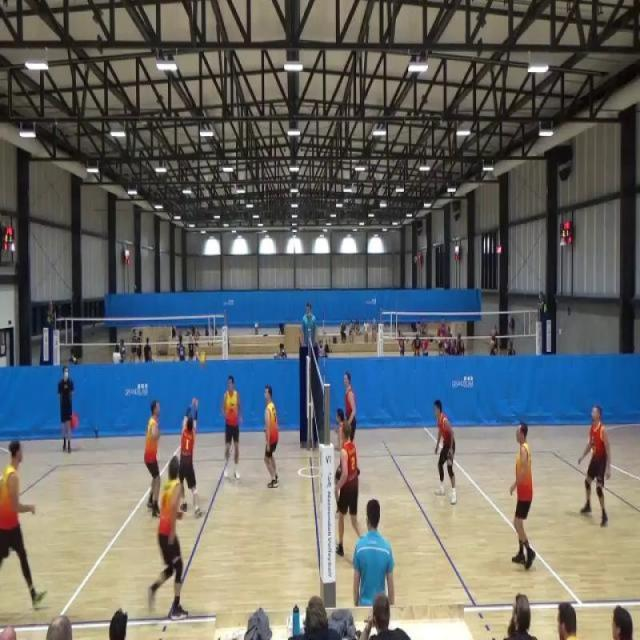volleyball: (199, 350, 206, 365)
